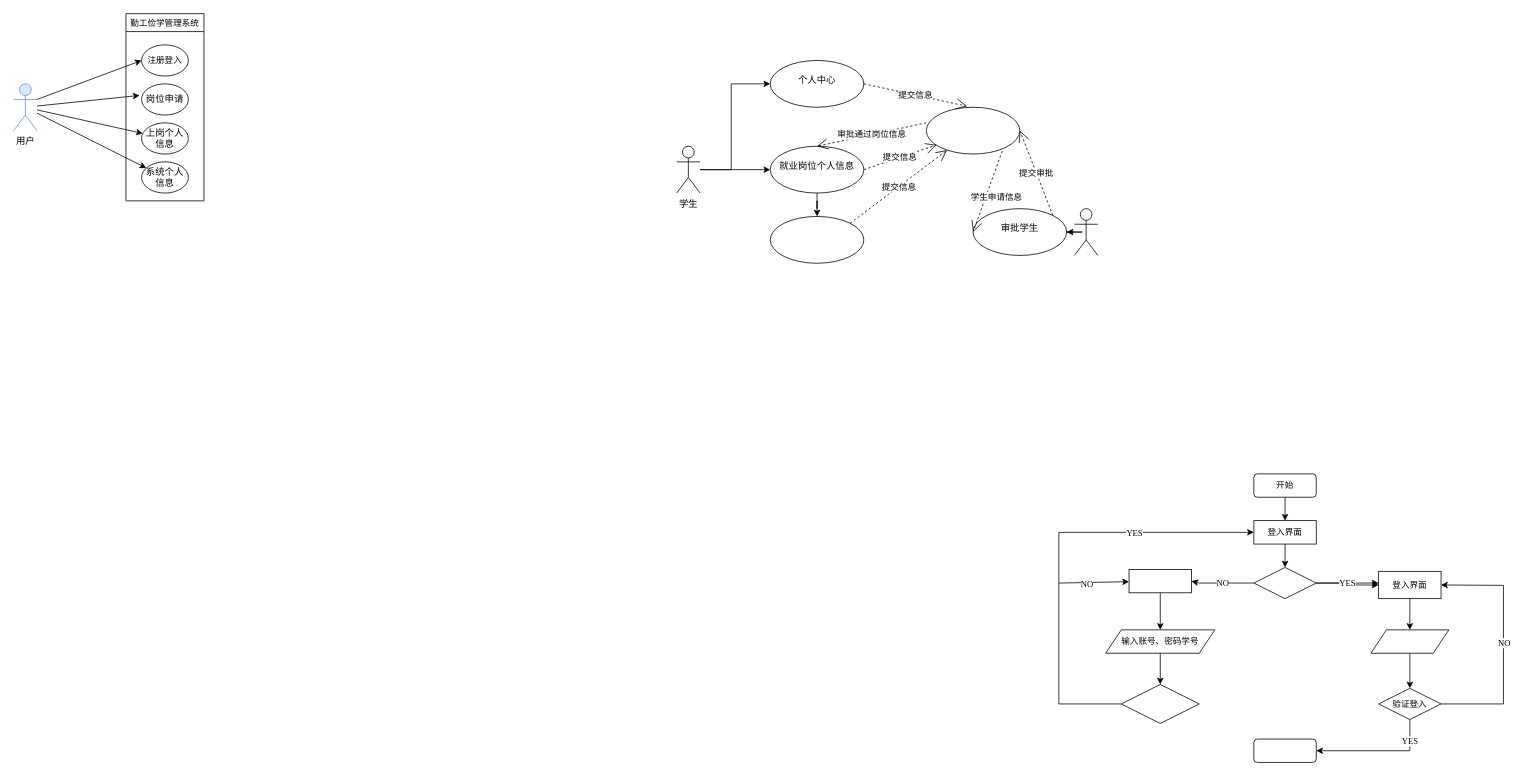
Some shapes in this 1523 by 776 pixel diagram are drawn without their labels. Each missing label, with the centre of its shape:
"数据库" goes at (x=972, y=130).
"是否有账号" goes at (x=1284, y=583).
"注册界面" goes at (x=1159, y=581).
"申请岗位" goes at (x=816, y=239).
"管理员" goes at (x=1086, y=231).
"结束" goes at (x=1284, y=750).
"账号是否合法" goes at (x=1159, y=703).
"输入账号密码" goes at (x=1409, y=641).
